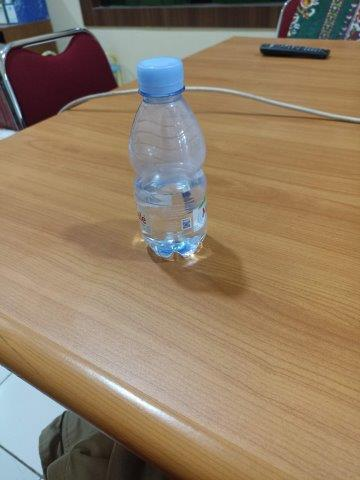botolplastik: (129, 56, 207, 258)
